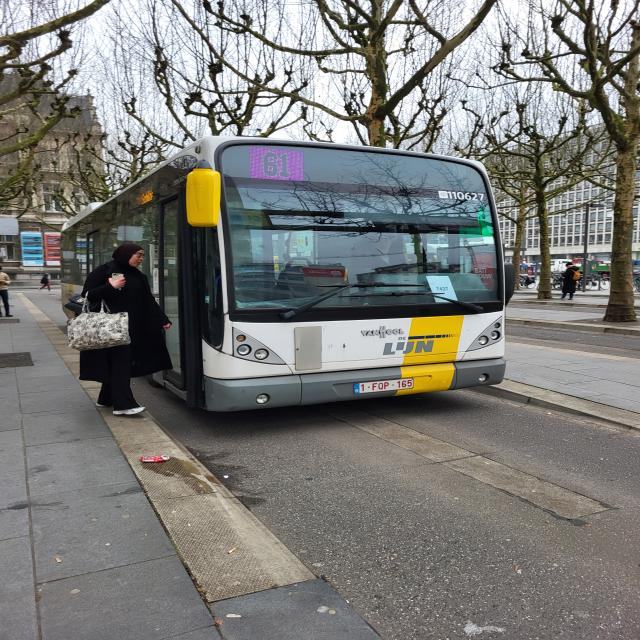bus-number: (252, 150, 302, 180)
